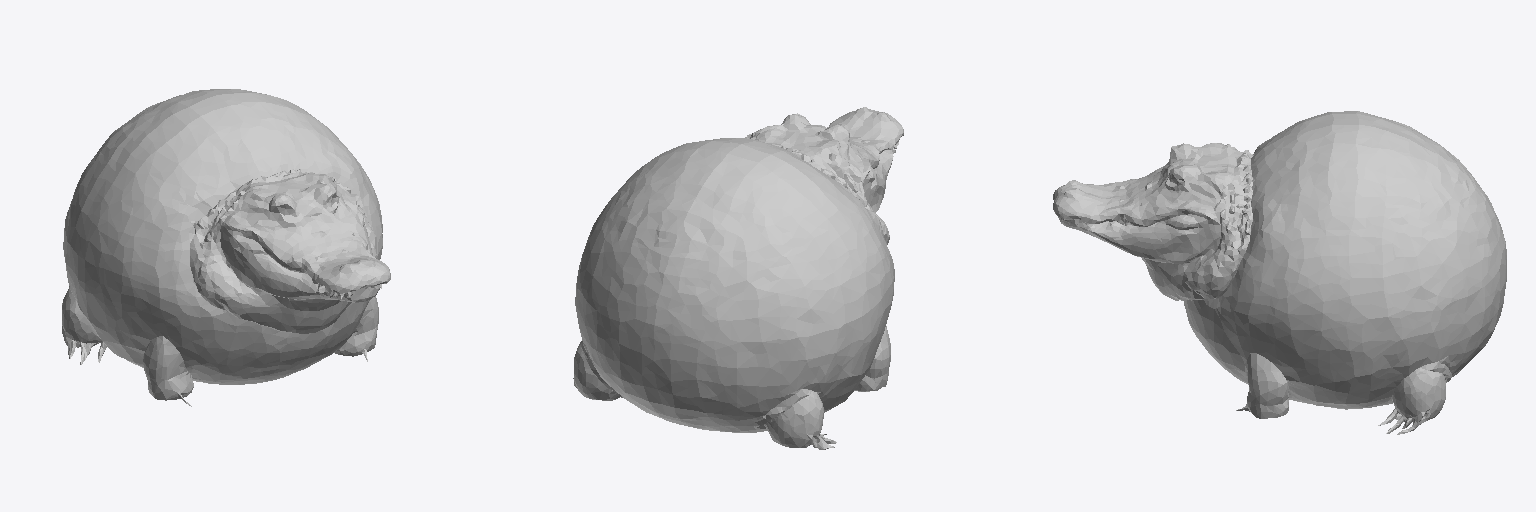
The model's file is Crocodilemelon_0424183400_texture.obj.
The picture shows the model from 3 angles: view 1: azimuth 30°, elevation 25°; view 2: azimuth 150°, elevation 25°; view 3: azimuth 270°, elevation 25°; orthographic projection.
Visible parts, largest first — view 1: Crocodilemelon_[number redacted]_texture; view 2: Crocodilemelon_[number redacted]_texture; view 3: Crocodilemelon_[number redacted]_texture.
Boxes of the visible parts, x1=… form: Crocodilemelon_[number redacted]_texture: x1=62, y1=89, x2=390, y2=406; Crocodilemelon_[number redacted]_texture: x1=573, y1=107, x2=903, y2=449; Crocodilemelon_[number redacted]_texture: x1=1053, y1=111, x2=1506, y2=434.
Size of the model in its own units: 1.4 by 1.28 by 2.